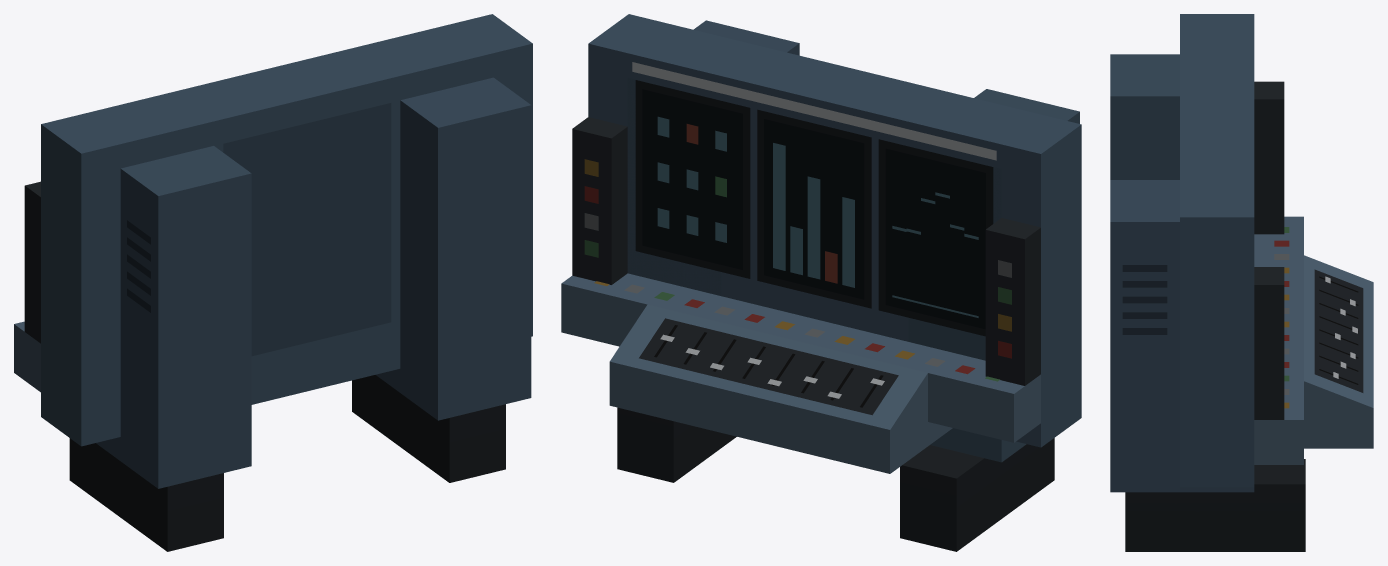
File: console.panel.blue.glb
3 views of the same model, side by side, from view 1: azimuth 30°, elevation 25°; view 2: azimuth 150°, elevation 25°; view 3: azimuth 270°, elevation 25° (orthographic). The views are drawn at different scales.
Parts seen in each view (by area): view 1: console_panel_blue; view 2: console_panel_blue; view 3: console_panel_blue.
Boxes of the visible parts, box(x1,y1,x2,y2) form: console_panel_blue: box(14, 14, 532, 551); console_panel_blue: box(561, 14, 1081, 551); console_panel_blue: box(1110, 14, 1373, 551).
Size of what is drawn, in the model's own units: 1.94 by 1.6 by 1.06.
